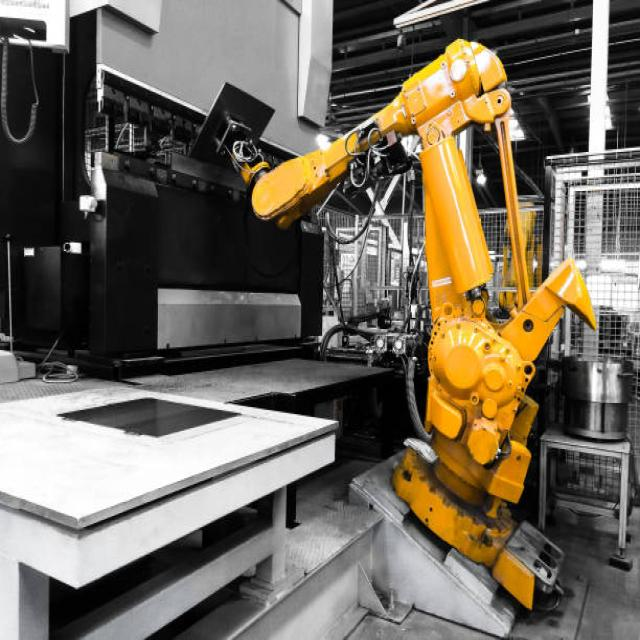Robotic-arm: (226, 32, 600, 588)
